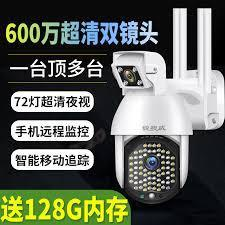maru: (114, 134, 190, 204)
